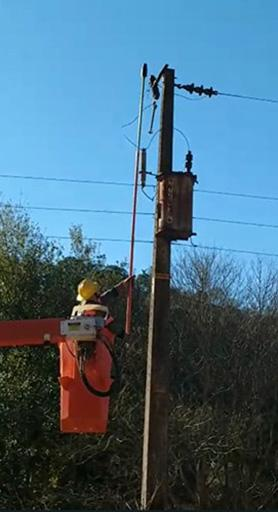Vara_Manobra: (123, 76, 147, 335)
